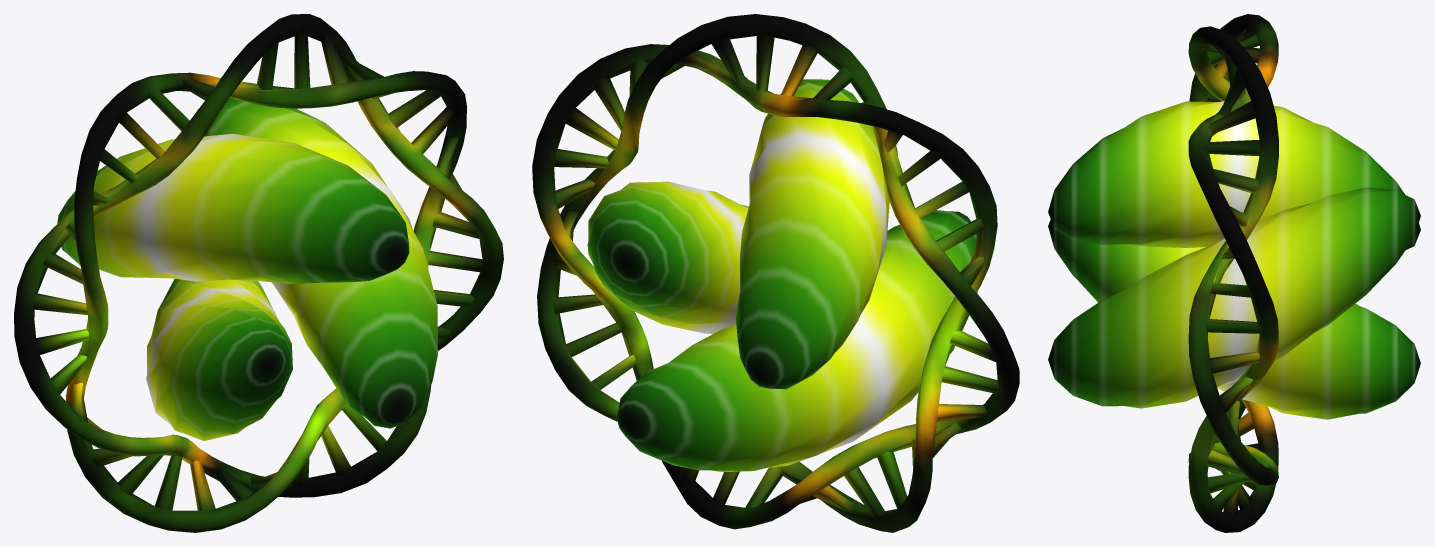
The model's file is Artifact05.FBX.
3 renders of one model, left to right at view 1: azimuth 30°, elevation 25°; view 2: azimuth 150°, elevation 25°; view 3: azimuth 270°, elevation 25°, orthographic. The views are drawn at different scales.
Visible parts, largest first — view 1: Artifact05; view 2: Artifact05; view 3: Artifact05.
Boxes of the visible parts, x1=… form: Artifact05: x1=14, y1=14, x2=503, y2=532; Artifact05: x1=532, y1=14, x2=1019, y2=532; Artifact05: x1=1048, y1=14, x2=1420, y2=532.
Bounding box in the file's own units: 27.92 × 27.82 × 20.
